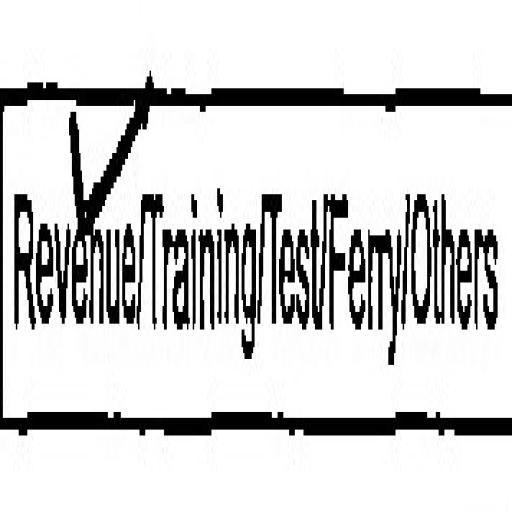check: (4, 2, 143, 444)
